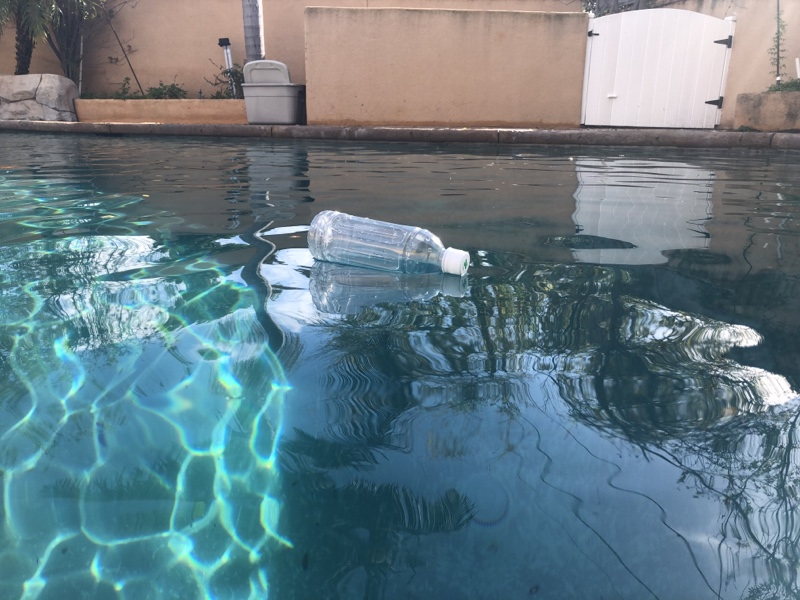Plastic Bottle: (304, 205, 475, 285)
